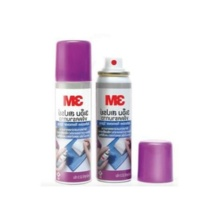aerosol_cans: (50, 36, 95, 185), (92, 52, 135, 184)
